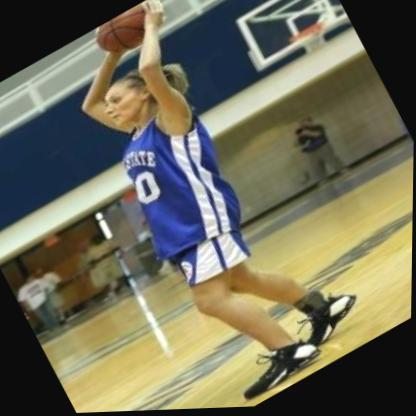basketball: (88, 0, 170, 67)
